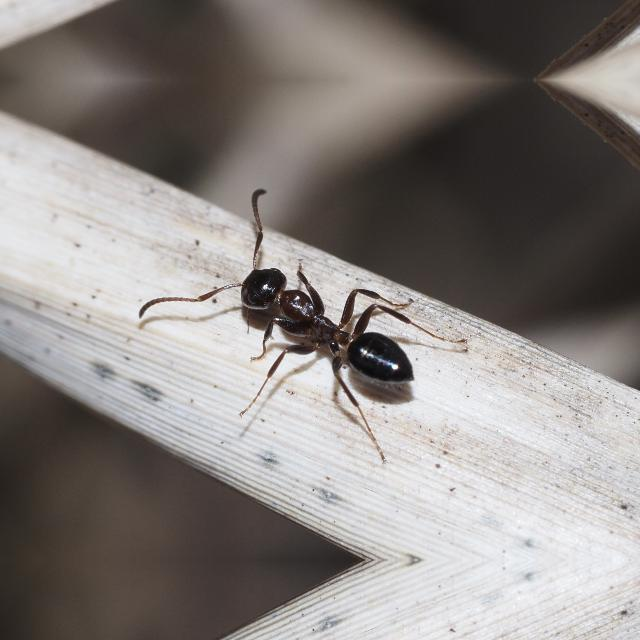Colobopsis: (198, 230, 440, 402)
